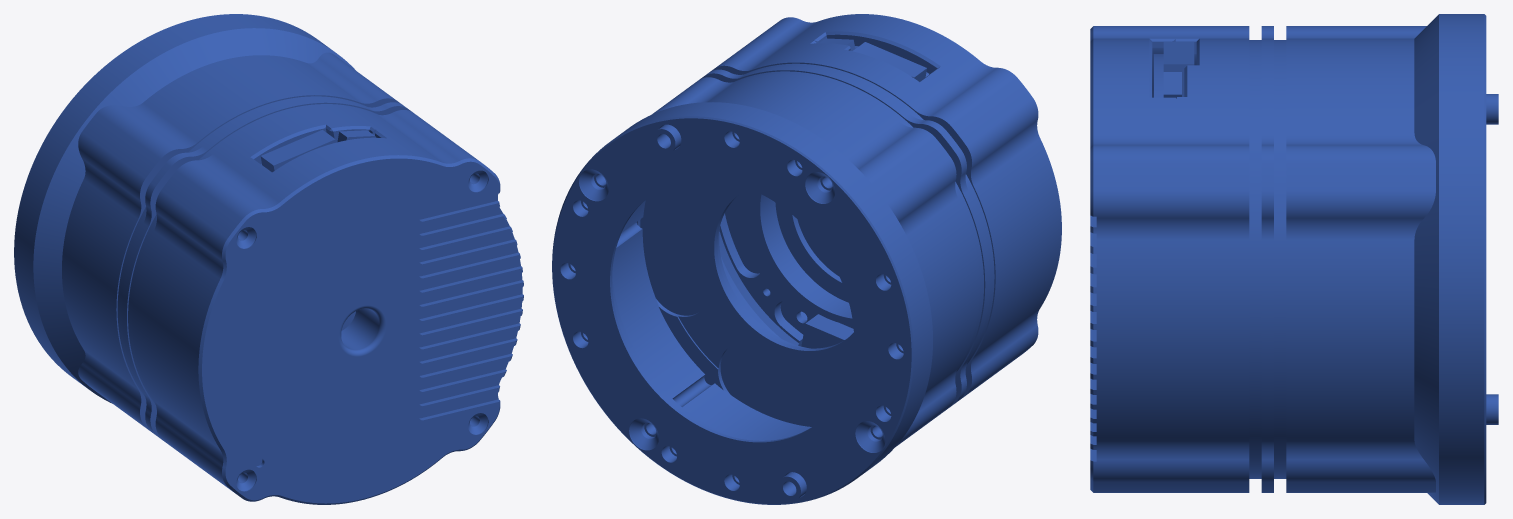
3 views of the same model, side by side, from view 1: azimuth 30°, elevation 25°; view 2: azimuth 150°, elevation 25°; view 3: azimuth 270°, elevation 25° (orthographic). The views are drawn at different scales.
Visible parts, largest first — view 1: mesh3418, mesh3713, mesh3300, mesh3580, mesh3725, mesh3731, mesh3311, mesh3306, mesh3728, mesh3304, mesh3308, mesh3727 (+39 smaller); view 2: mesh3578, mesh3300, mesh3580, mesh3311, mesh3725, mesh3731, mesh3546, mesh3532, mesh3523, mesh3548, mesh3541, mesh3738 (+39 smaller); view 3: mesh3396, mesh3714, mesh3580, mesh3311, mesh3731, mesh3713, mesh3345, mesh3711, mesh3333, mesh3318, mesh3736, mesh3735 (+21 smaller).
Boxes of the visible parts, x1,y1,x2,y2 form: mesh3418: (202,158,522,503); mesh3713: (33,28,355,403); mesh3300: (132,231,219,448); mesh3580: (14,14,332,388); mesh3725: (62,179,137,388); mesh3731: (143,55,359,141); mesh3311: (214,106,441,201); mesh3306: (161,171,242,238); mesh3728: (82,113,160,178); mesh3304: (155,190,227,260); mesh3308: (176,160,262,218); mesh3727: (78,132,145,200); mesh3578: (552,118,911,503); mesh3300: (974,138,1061,356); mesh3580: (613,102,932,475); mesh3311: (752,14,980,109); mesh3725: (907,198,979,391); mesh3731: (708,74,898,158); mesh3546: (640,180,708,315); mesh3532: (720,343,849,426); mesh3523: (678,180,854,372); mesh3548: (612,229,704,398); mesh3541: (682,383,811,440); mesh3738: (725,189,853,334); mesh3396: (1093,240,1249,440); mesh3714: (1286,240,1414,440); mesh3580: (1439,14,1484,504); mesh3311: (1093,38,1249,132); mesh3731: (1286,38,1414,132); mesh3713: (1414,14,1438,504); mesh3345: (1249,40,1261,478); mesh3711: (1274,40,1286,478); mesh3333: (1093,190,1249,218); mesh3318: (1093,163,1249,190); mesh3736: (1286,190,1435,218); mesh3735: (1286,163,1435,190).
Bounding box in the file's own units: 0.08 × 0.08 × 0.0665.
